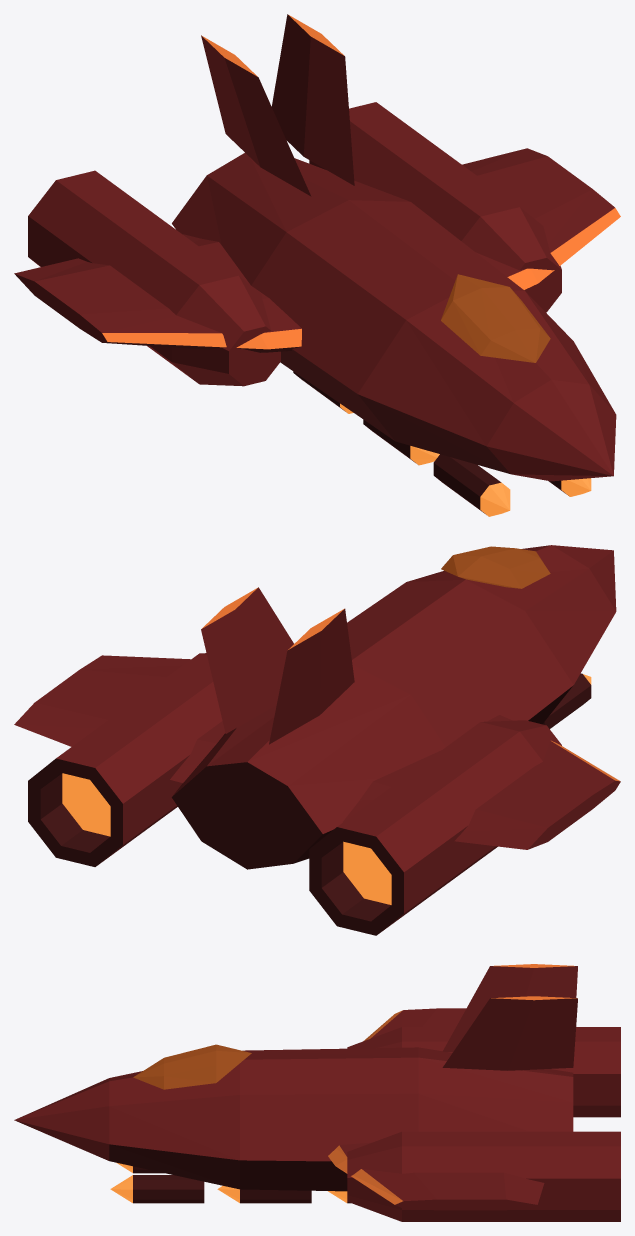
File: arcwing-bomber-hull.gltf
3 renders of one model, top to bottom at view 1: azimuth 30°, elevation 25°; view 2: azimuth 150°, elevation 25°; view 3: azimuth 270°, elevation 25°, orthographic. The views are drawn at different scales.
Parts seen in each view (by area): view 1: arcwing-bomber; view 2: arcwing-bomber; view 3: arcwing-bomber.
Boxes of the visible parts, x1,y1,x2,y2 form: arcwing-bomber: [14, 14, 620, 516]; arcwing-bomber: [14, 545, 620, 935]; arcwing-bomber: [14, 964, 620, 1221].
Bounding box in the file's own units: 1.9 × 0.9454 × 2.55.
